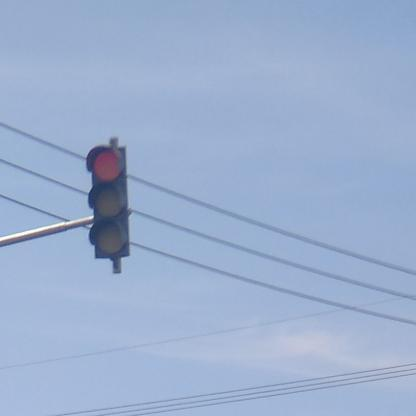red: (86, 145, 132, 260)
